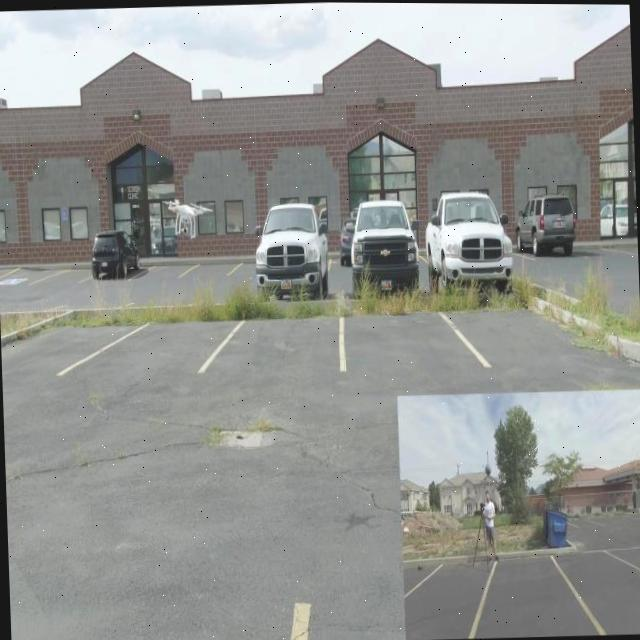drone: (160, 194, 214, 241)
